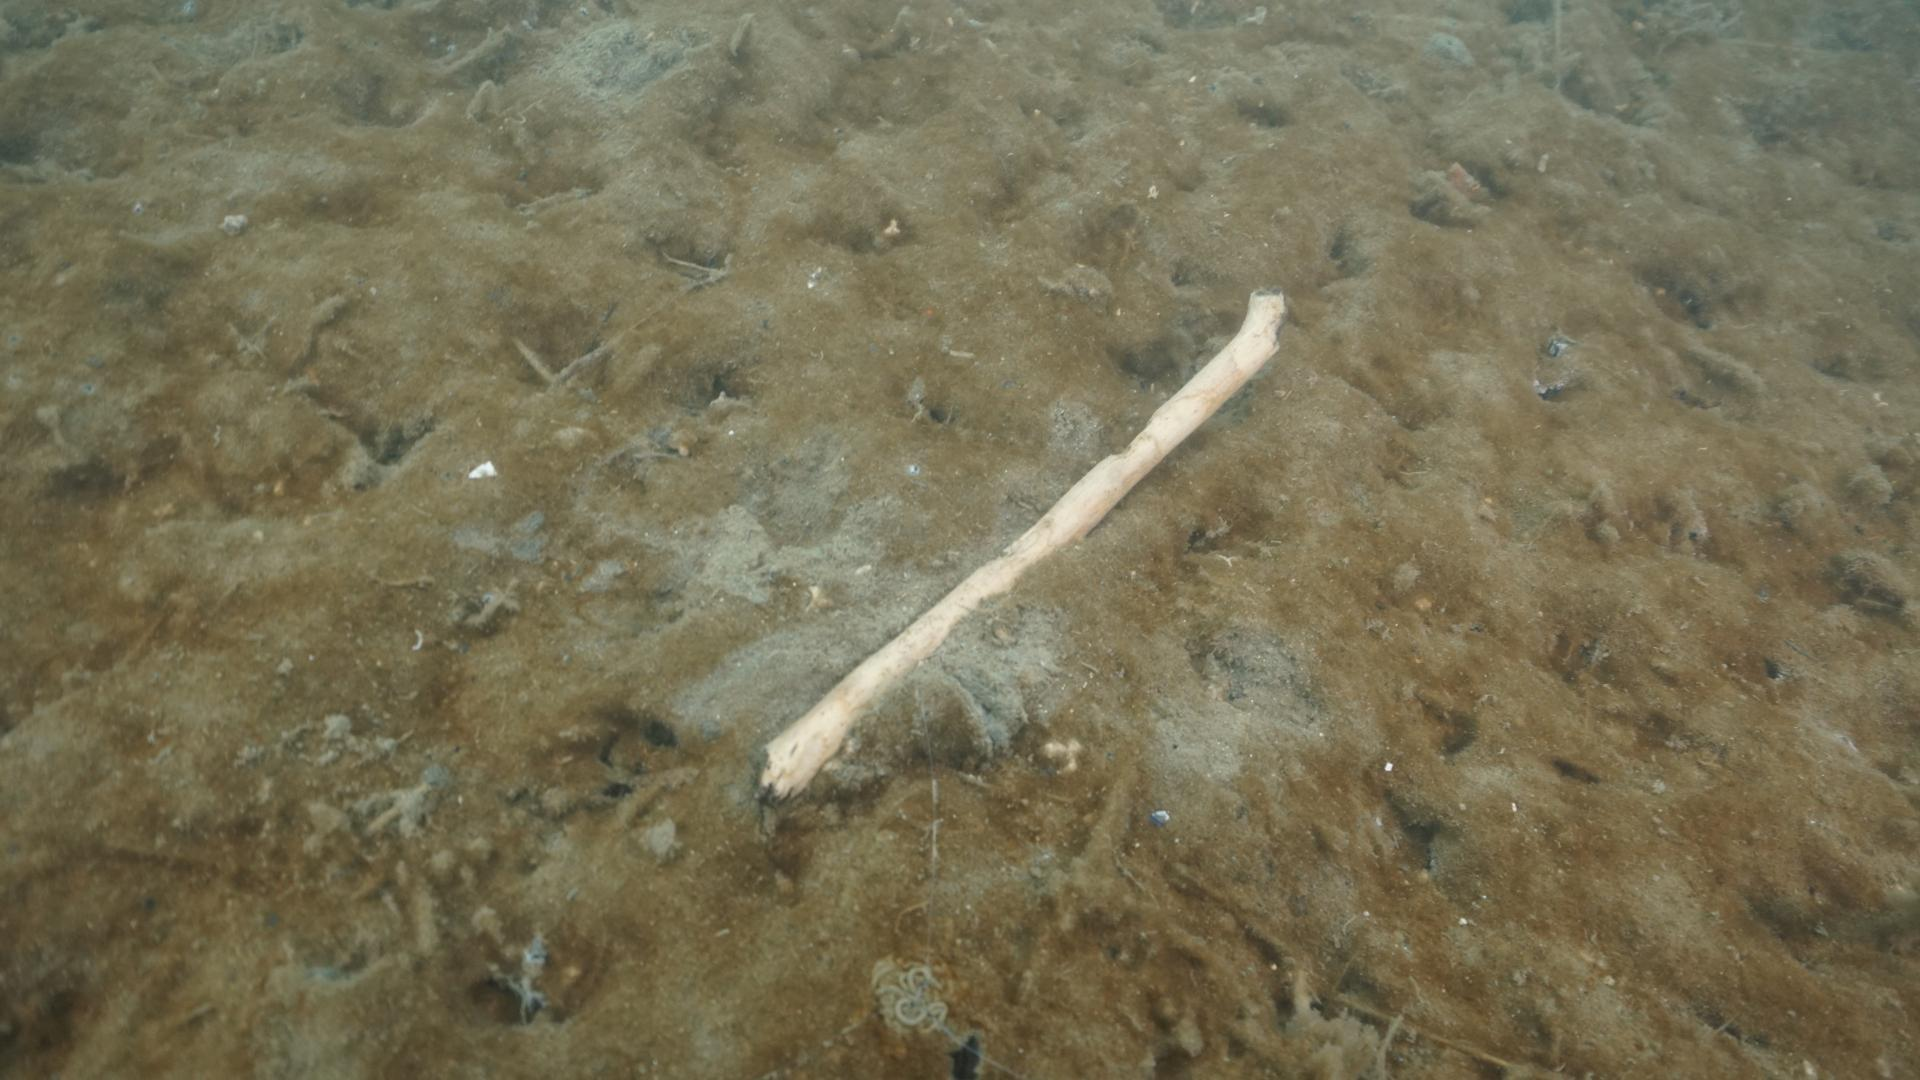wood: (756, 287, 1290, 796)
